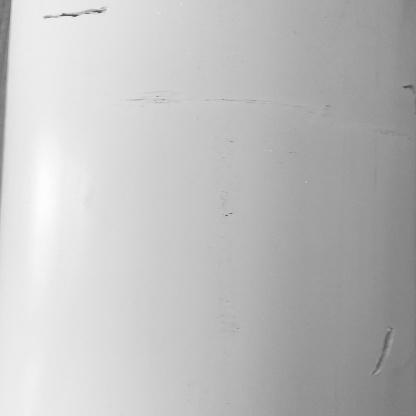sunshang: (372, 321, 401, 378), (35, 6, 113, 23)
